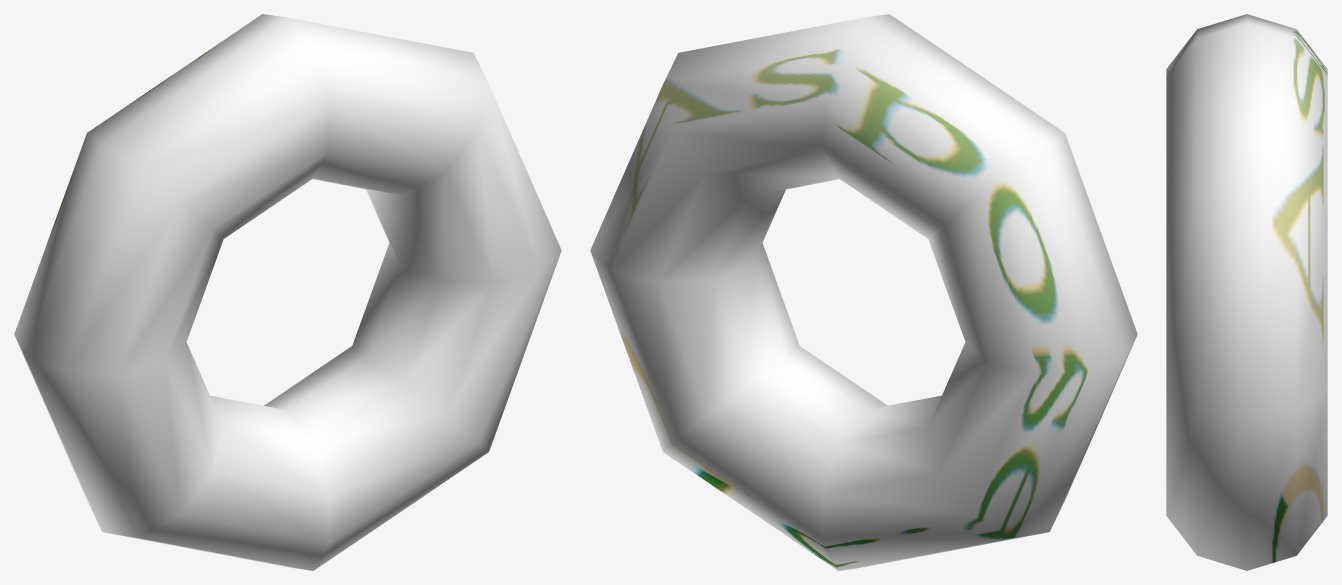
The model's file is EmbeddedTexture.fbx.
The picture shows the model from 3 angles, left to right: view 1: azimuth 30°, elevation 25°; view 2: azimuth 150°, elevation 25°; view 3: azimuth 270°, elevation 25°; orthographic projection. The views are drawn at different scales.
Size of the model in its own units: 2.8 by 2.8 by 0.7608.
1 material, 1 textured.
